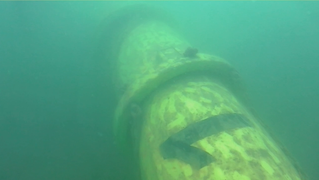1: (157, 112, 256, 170)
pipe: (97, 1, 304, 180)
